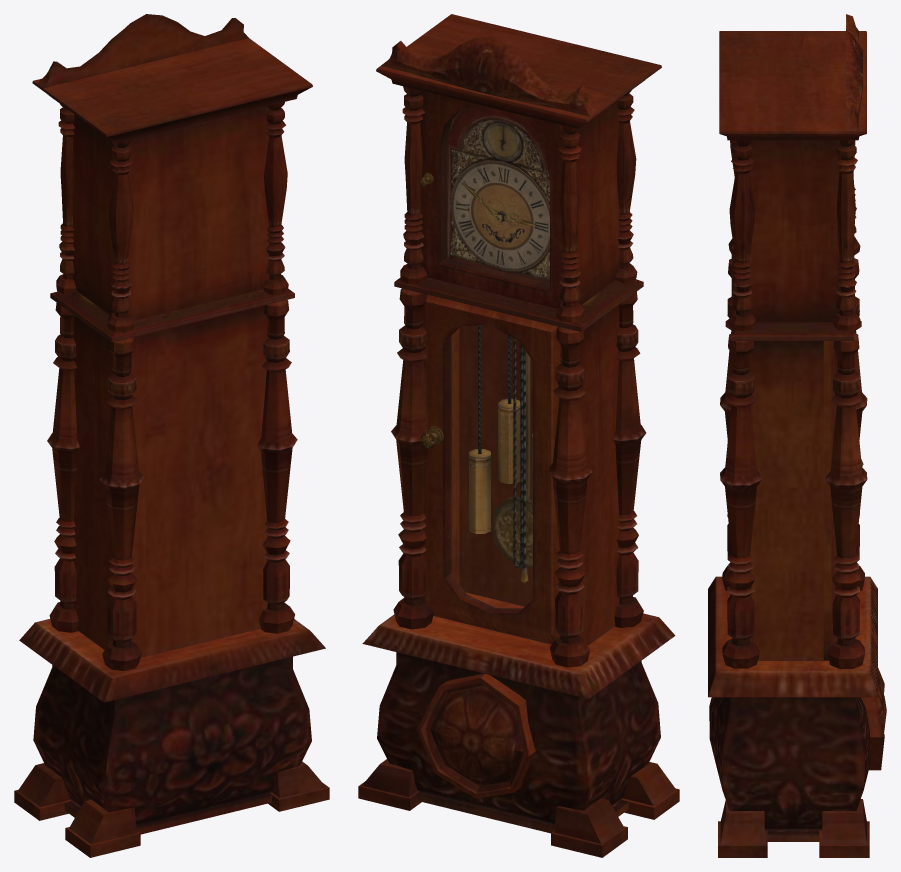
The model's file is clock-grandfather-b.glb.
3 renders of one model, left to right at view 1: azimuth 30°, elevation 25°; view 2: azimuth 150°, elevation 25°; view 3: azimuth 270°, elevation 25°, orthographic.
Visible parts, largest first — view 1: clock-grandfather-b; view 2: clock-grandfather-b; view 3: clock-grandfather-b.
Boxes of the visible parts, x1,y1,x2,y2 form: clock-grandfather-b: (14, 14, 329, 857); clock-grandfather-b: (358, 14, 679, 857); clock-grandfather-b: (708, 14, 886, 857).
Size of the model in its own units: 0.7527 by 2.31 by 0.4867.
Materials: 4 (3 with a texture image).
